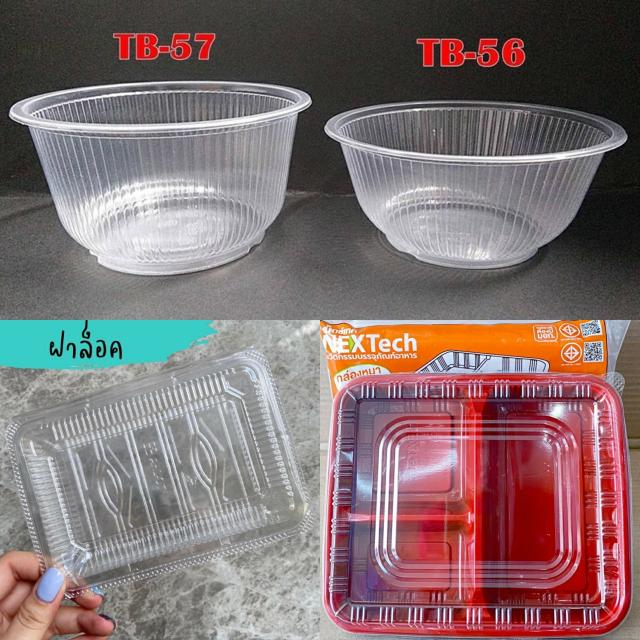Single-Use-Plastic: (324, 374, 631, 638), (6, 348, 312, 592), (10, 81, 311, 274), (326, 101, 626, 269)
